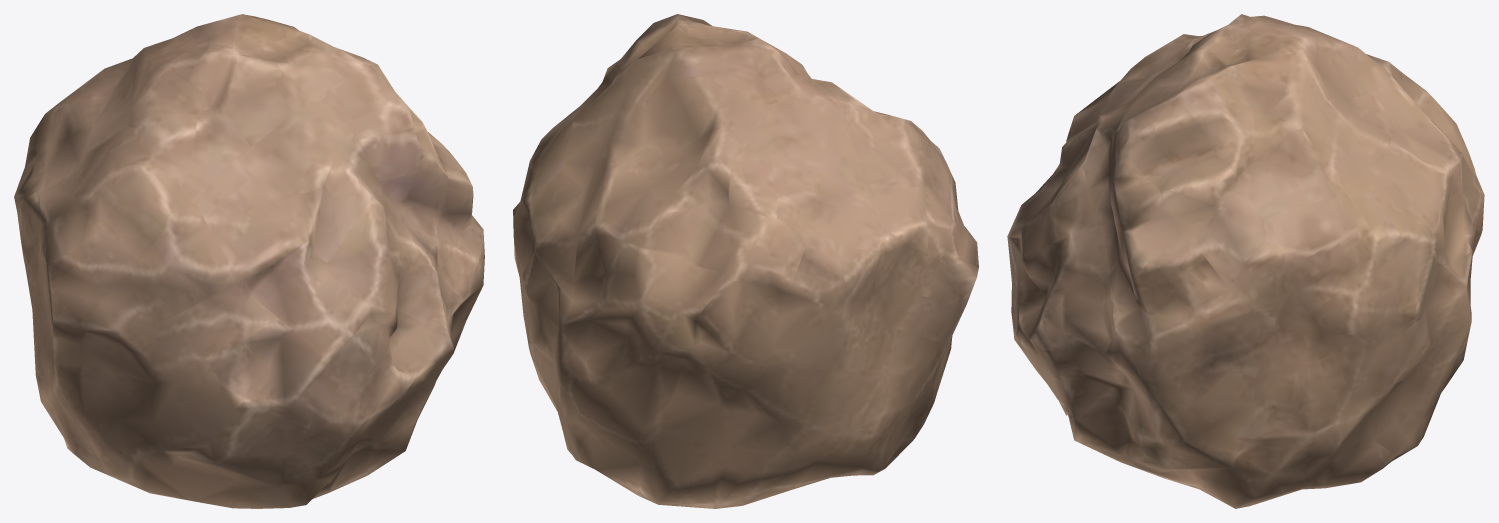
The model's file is asteroid_2.glb.
3 renders of one model, left to right at view 1: azimuth 30°, elevation 25°; view 2: azimuth 150°, elevation 25°; view 3: azimuth 270°, elevation 25°, orthographic.
Size of the model in its own units: 1.89 by 1.81 by 1.87.
Materials: 1 (1 with a texture image).
